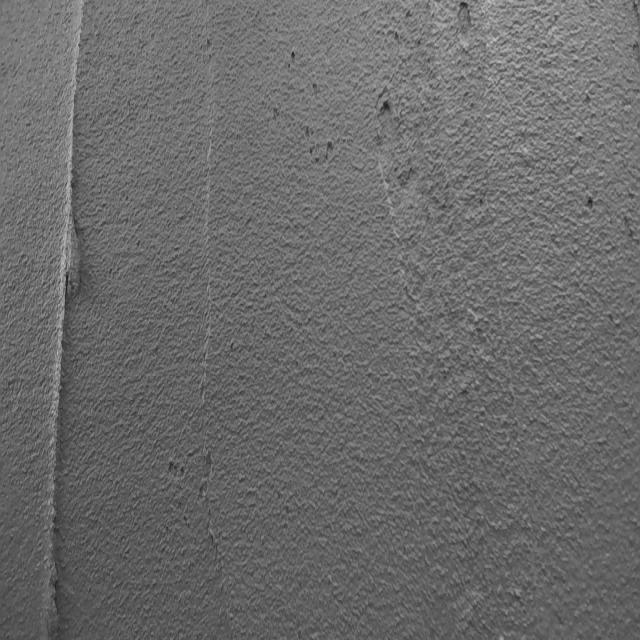trowels marks: (39, 4, 85, 639)
